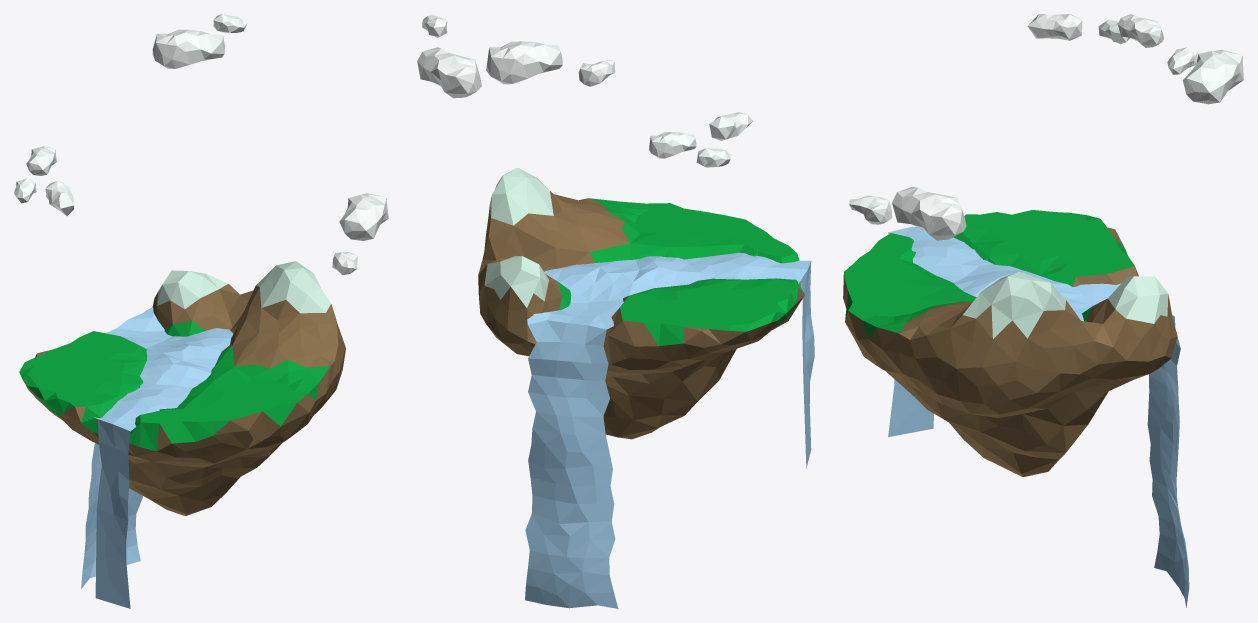
Rendered from RandWater_Fracture (1).fbx.
The picture shows the model from 3 angles, left to right: view 1: azimuth 30°, elevation 25°; view 2: azimuth 150°, elevation 25°; view 3: azimuth 270°, elevation 25°; orthographic projection. The views are drawn at different scales.
Visible parts, largest first — view 1: Icosphere, Plane, Icosphere.006, Icosphere.004, Icosphere.001, Icosphere.003, Icosphere.007; view 2: Icosphere, Plane, Icosphere.004, Icosphere.006, Icosphere.003, Icosphere.001, Icosphere.005, Icosphere.002; view 3: Icosphere, Plane, Icosphere.004, Icosphere.006, Icosphere.001, Icosphere.003, Icosphere.005, Icosphere.007.
Boxes of the visible parts, x1=… form: Icosphere: x1=19, y1=261, x2=345, y2=516; Plane: x1=81, y1=307, x2=233, y2=608; Icosphere.006: x1=152, y1=29, x2=224, y2=68; Icosphere.004: x1=339, y1=193, x2=388, y2=240; Icosphere.001: x1=45, y1=181, x2=73, y2=215; Icosphere.003: x1=26, y1=146, x2=56, y2=175; Icosphere.007: x1=213, y1=14, x2=247, y2=32; Icosphere: x1=478, y1=167, x2=804, y2=439; Plane: x1=525, y1=252, x2=814, y2=608; Icosphere.004: x1=486, y1=41, x2=562, y2=84; Icosphere.006: x1=417, y1=47, x2=481, y2=98; Icosphere.003: x1=648, y1=132, x2=696, y2=158; Icosphere.001: x1=709, y1=112, x2=752, y2=140; Icosphere.005: x1=578, y1=60, x2=615, y2=86; Icosphere.002: x1=696, y1=148, x2=731, y2=167; Icosphere: x1=843, y1=210, x2=1177, y2=477; Plane: x1=888, y1=226, x2=1189, y2=607; Icosphere.004: x1=892, y1=186, x2=966, y2=240; Icosphere.006: x1=1182, y1=49, x2=1243, y2=104; Icosphere.001: x1=1028, y1=14, x2=1082, y2=40; Icosphere.003: x1=1118, y1=14, x2=1163, y2=47; Icosphere.005: x1=849, y1=195, x2=892, y2=224; Icosphere.007: x1=1167, y1=47, x2=1197, y2=74.
Bounding box in the file's own units: 2867 × 4630 × 2764.
